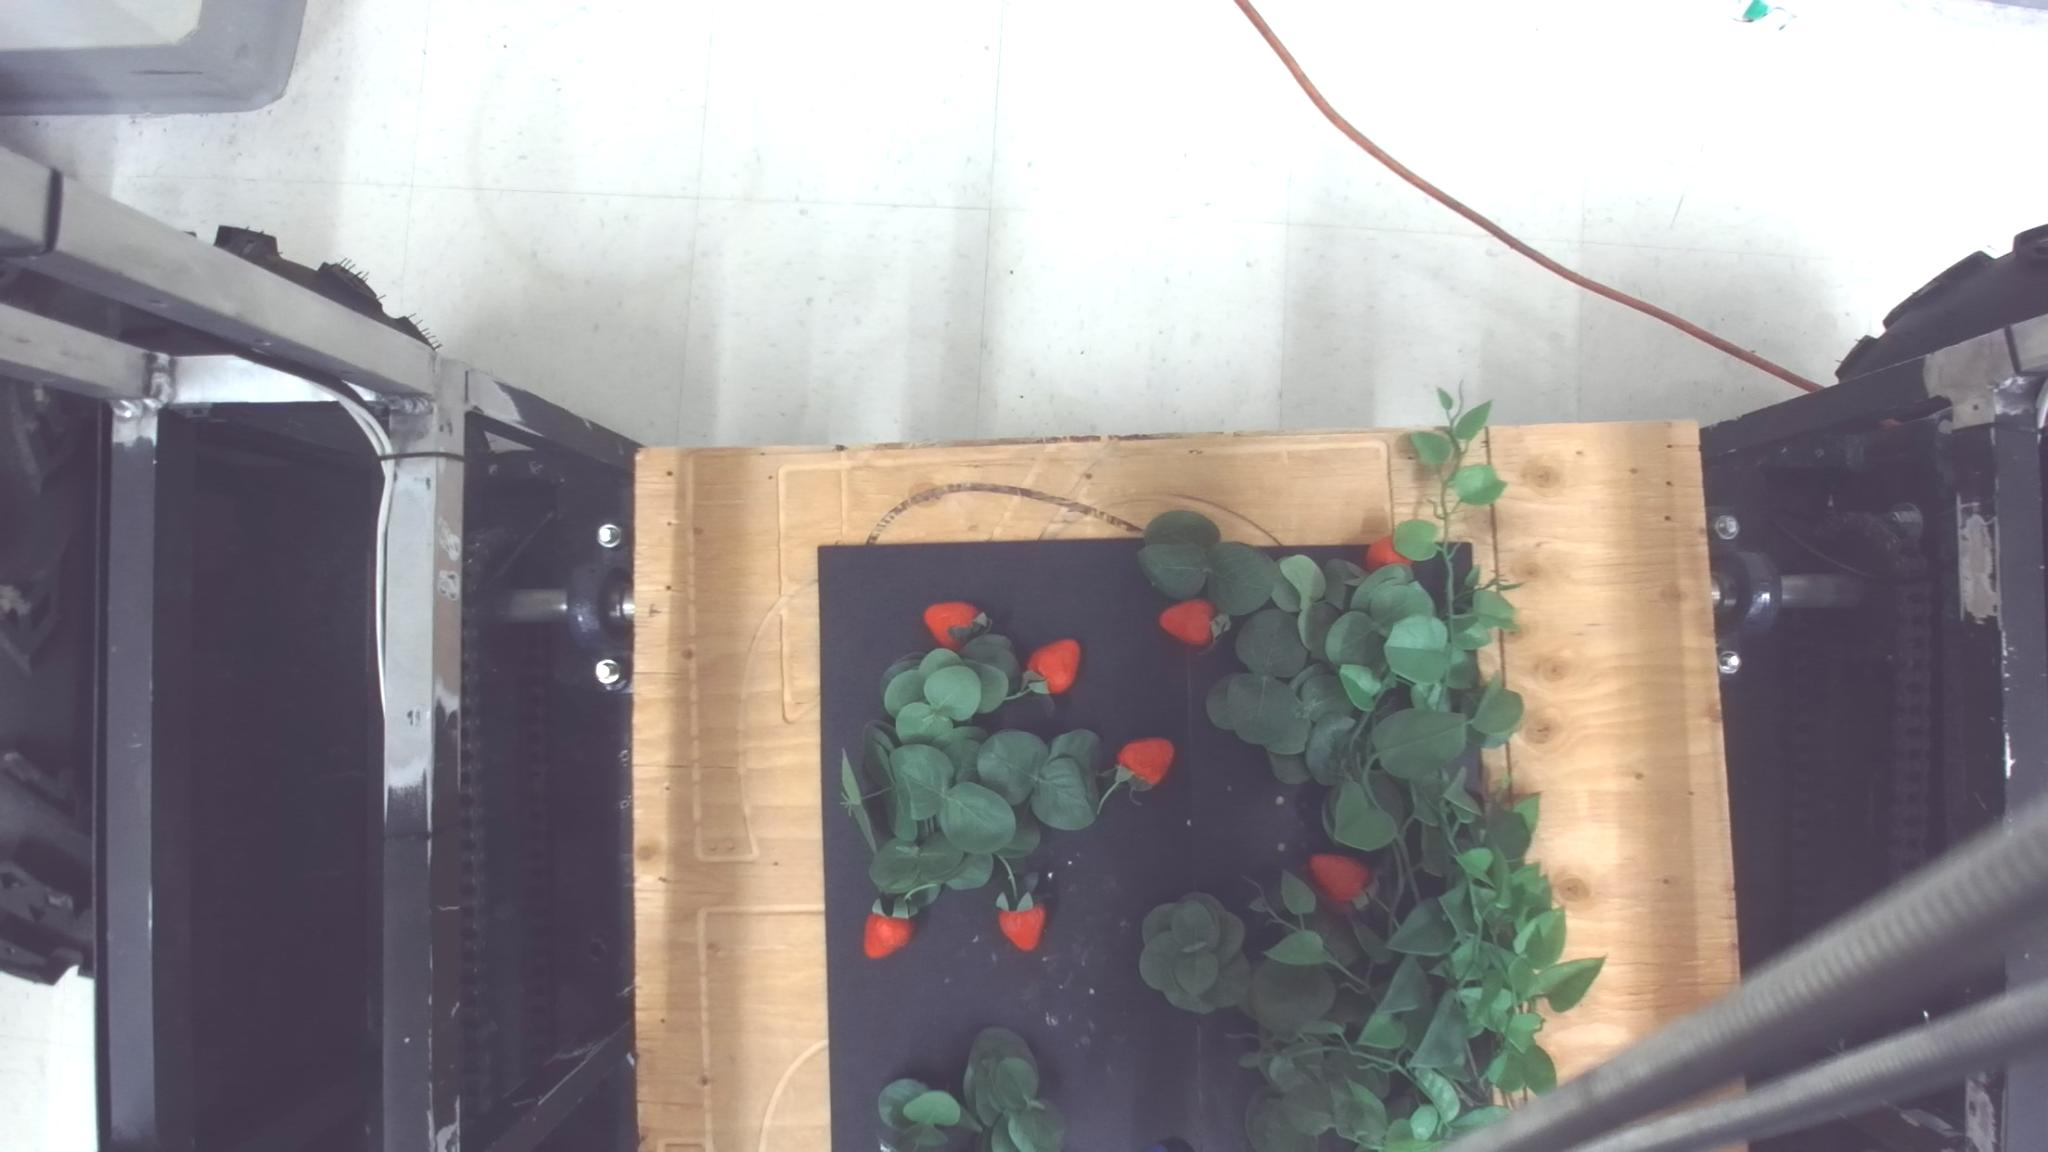strawberry: (1158, 598, 1228, 648), (921, 601, 989, 651), (1114, 736, 1175, 792), (1024, 637, 1080, 695), (1308, 852, 1370, 904), (994, 903, 1045, 952), (862, 916, 916, 958), (1364, 535, 1412, 572)
